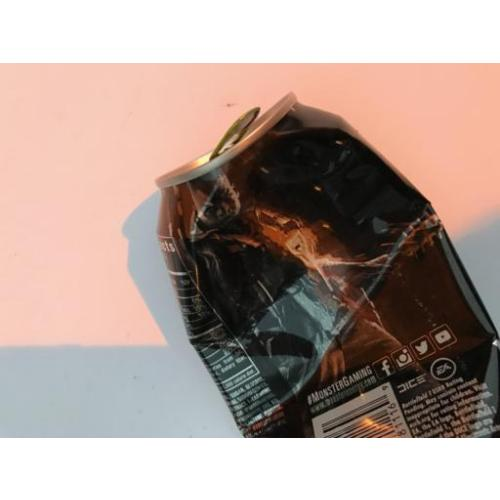metal: (158, 92, 499, 436)
